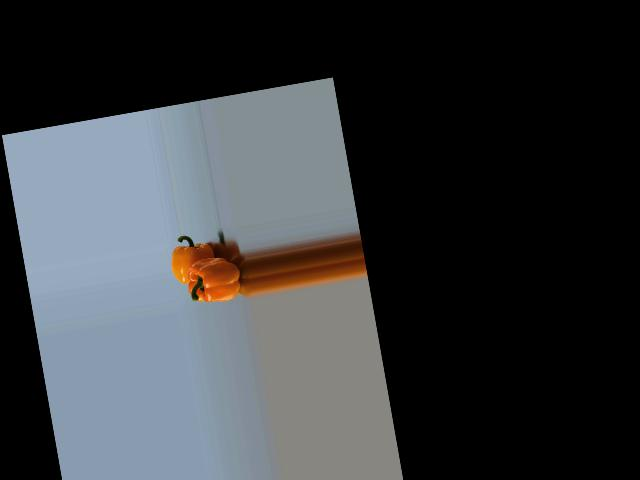bell_pepper: (166, 230, 226, 287)
